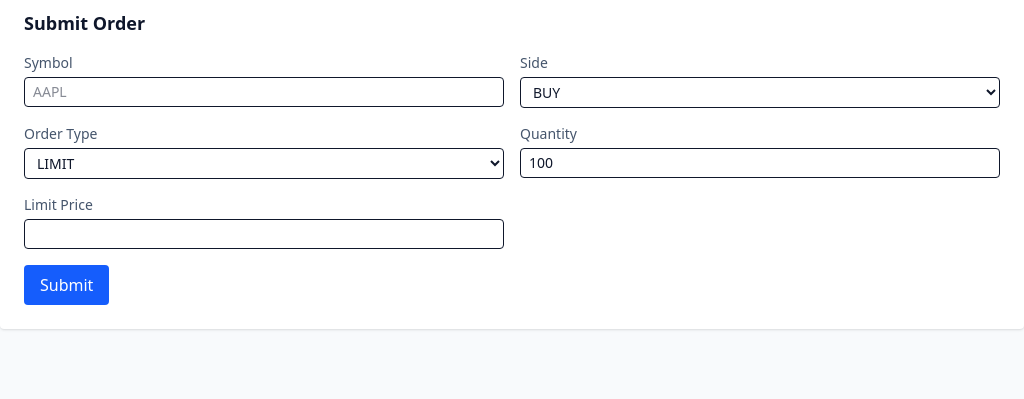
Test: OrderForm — GTC / ICEBERG › rejects ICEBERG when displayQuantity >= quantity
Type "aapl" into the field labelled "Symbol".
click(264, 92); type("aapl")  # box [24,77,504,107]
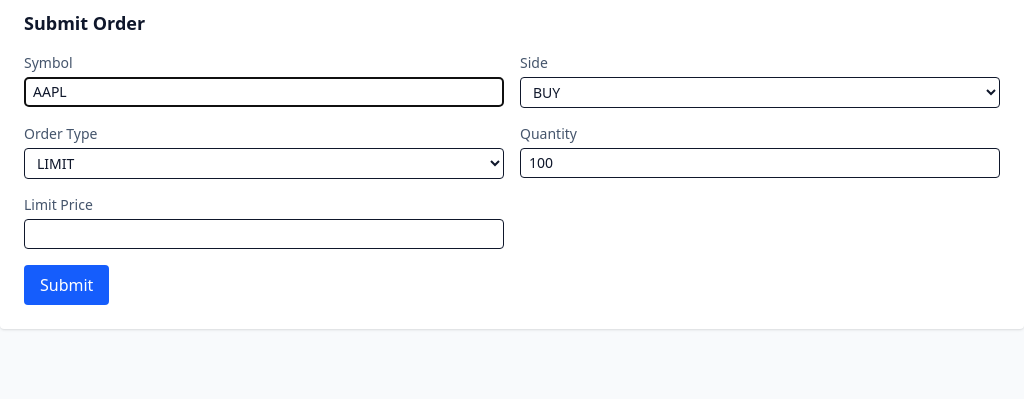
Select "ICEBERG" in the dropdown labelled "Order Type" at [264, 164], box [24,148,504,179]
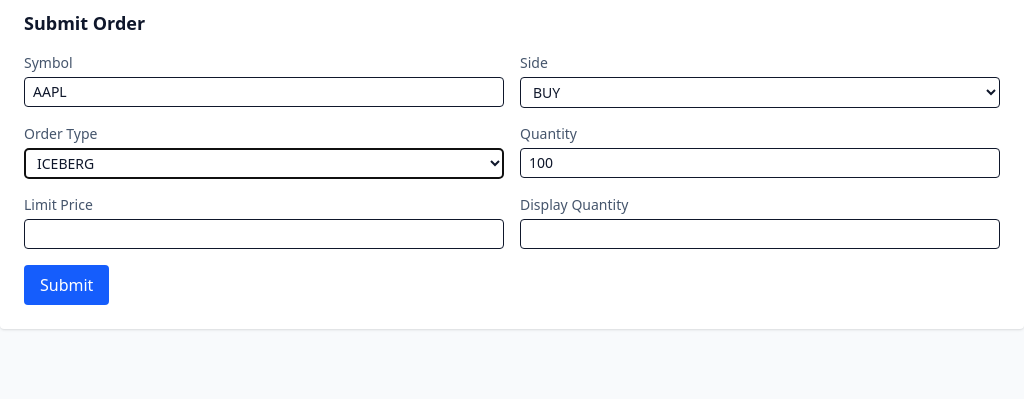
Type "150" into the number field labelled "Limit Price".
click(264, 234); type("150")  # box [24,219,504,249]
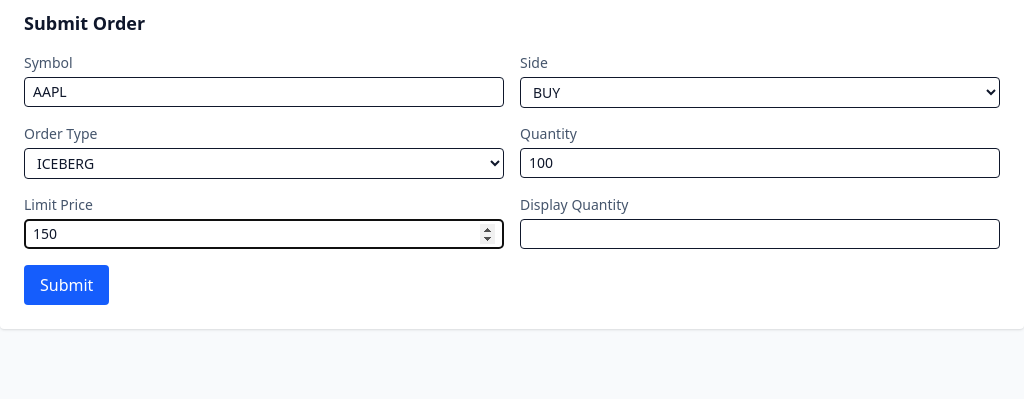
Type "150" into the number field labelled "Display Quantity".
click(760, 234); type("150")  # box [520,219,1000,249]
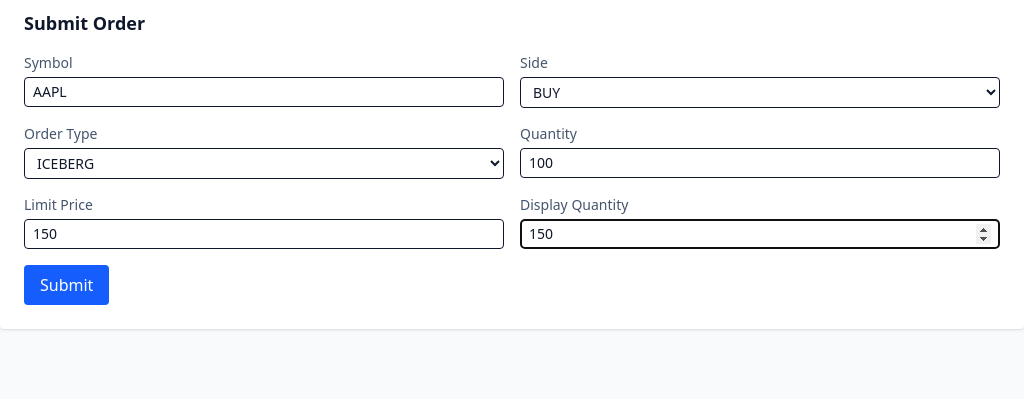
Click the button "Submit".
click(67, 285)  # box [24,265,109,305]
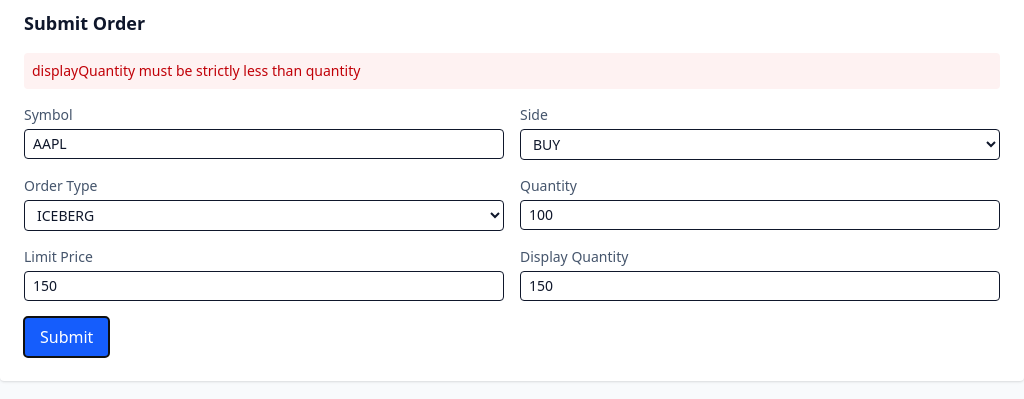
Expected: the text "displayQuantity must be strictly less than quantity" is shown, [24,53,1000,89]
